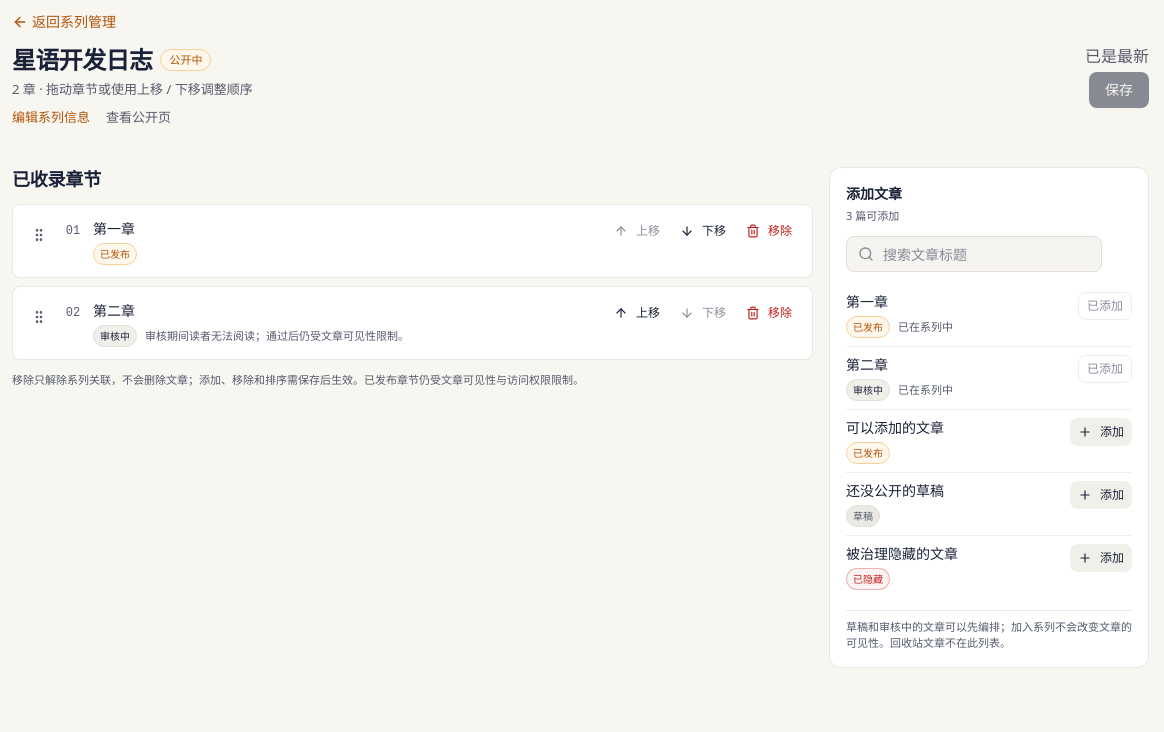
Test: SeriesArticlesPage › does not adopt another editor's version for local edits made during verification
The image size is (1164, 732).
Click the button with aria-label "下移：第一章": (703, 231) [672,217,734,245]
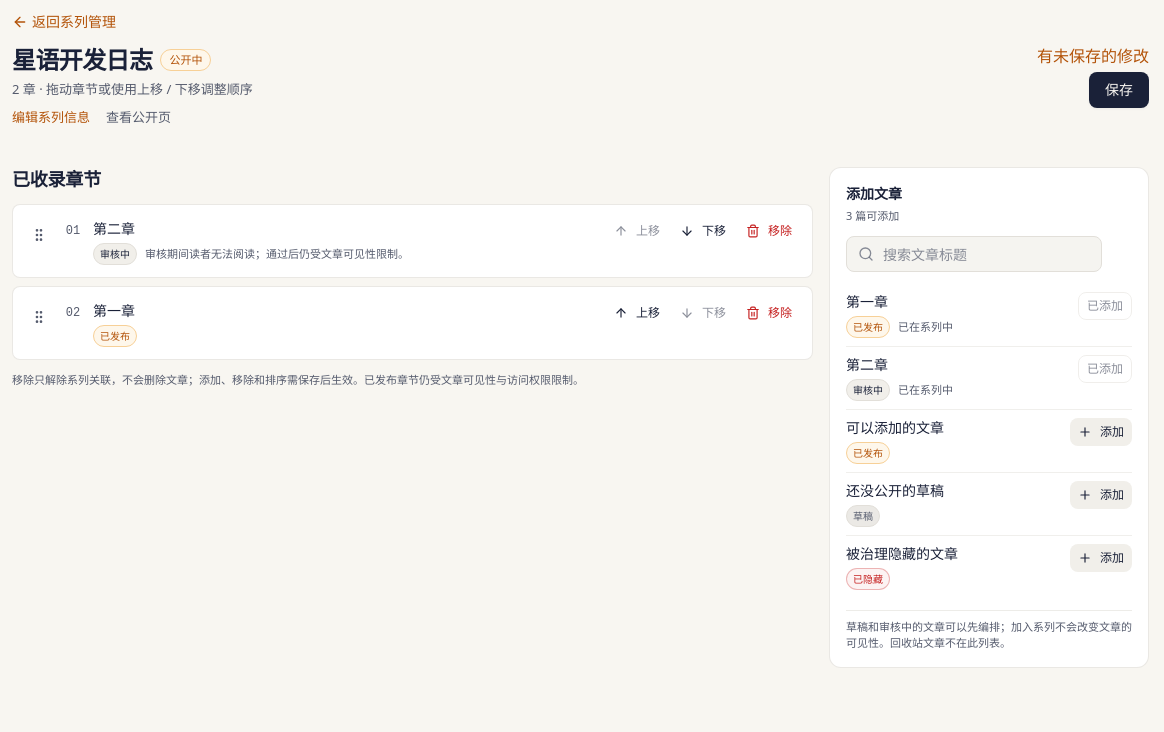
Click the button "保存": (1119, 90) [1089,72,1149,108]
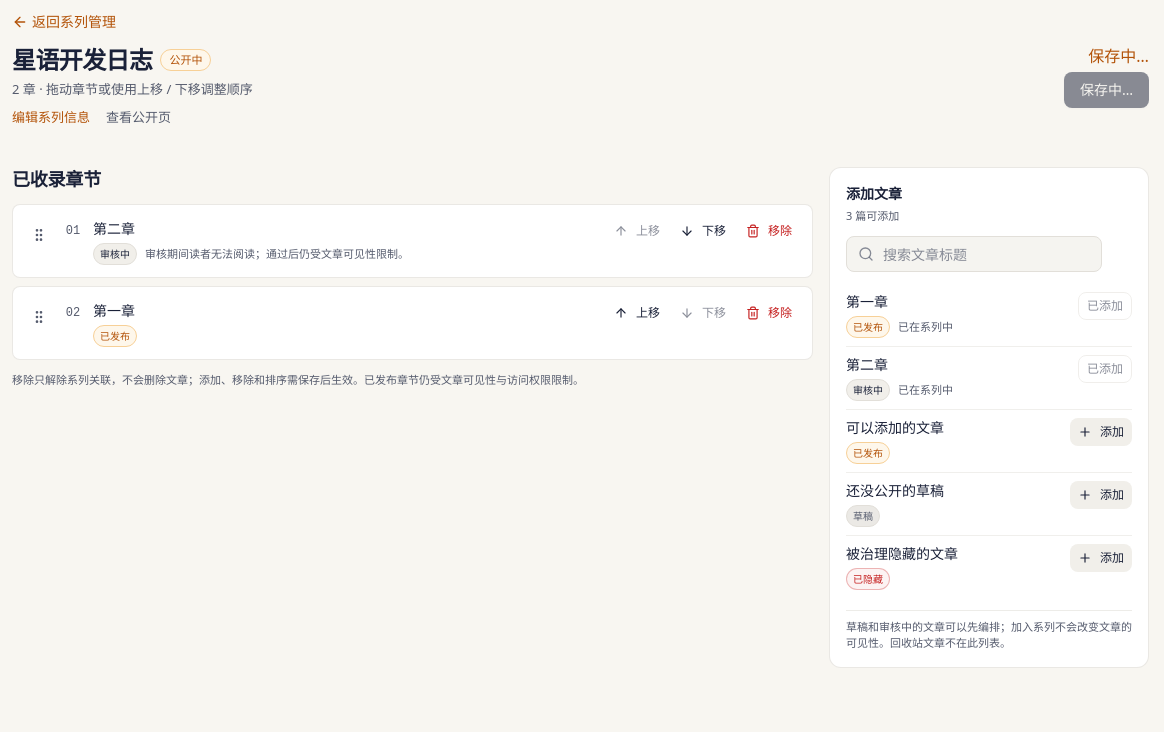
Click the button with aria-label "移除：第一章": (769, 313) [738,299,800,327]
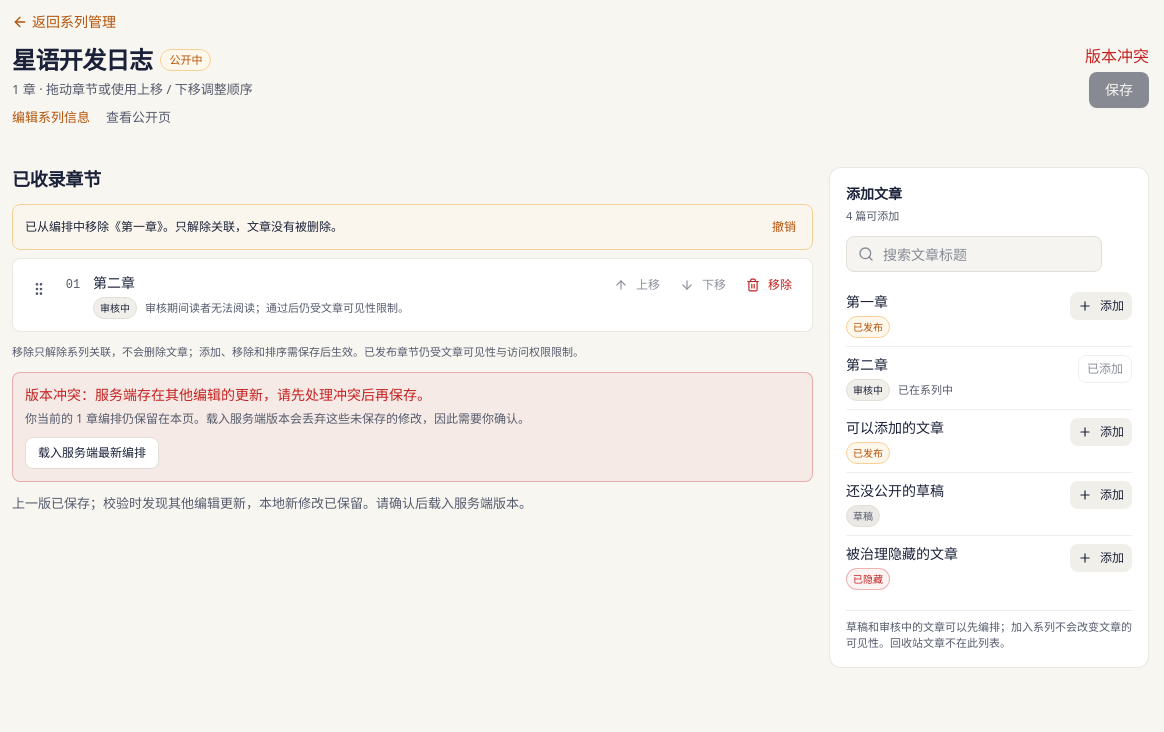
Expected: the list with test id "chapter-list" shows "第二章", [93,273,135,292]
Now the button "保存" is disabled, box [1089,72,1149,108]
Now the text "版本冲突：服务端存在其他编辑的更新，请先处理冲突后再保存。" is shown, box [25,385,431,404]
